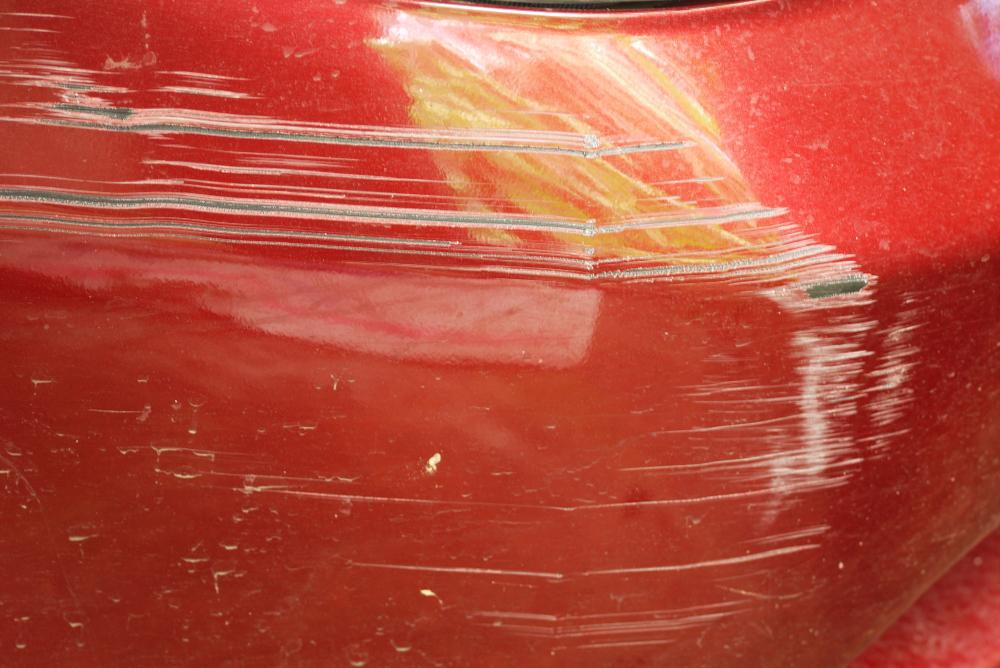scratch: (0, 0, 932, 668)
